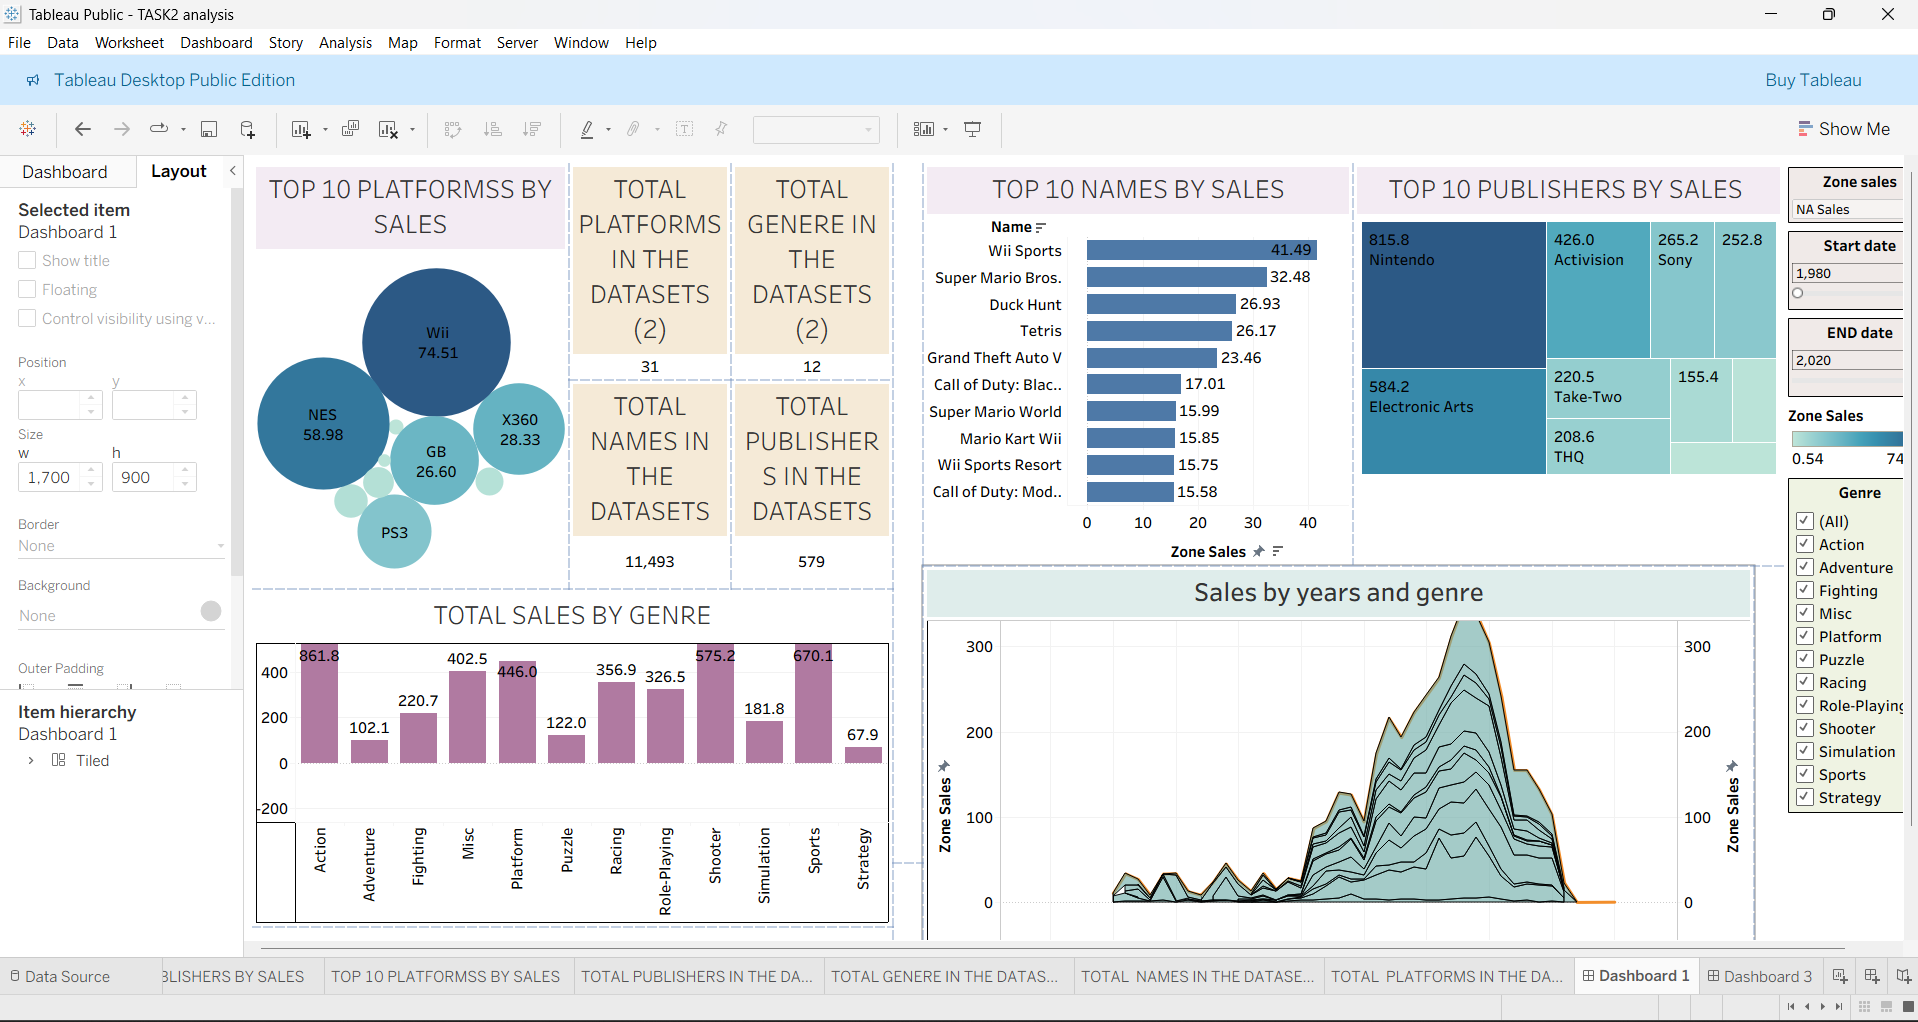

Layout of this report page (visuals, bound fields, positions):
{"tool":"tableau","page":{"name":"Dashboard 1","canvas":[1700,900],"ordinal":0},"visuals":[{"type":"worksheet","title":"TOP 10 PLATFORMSS BY SALES","mark":"Circle","box":[8,8,316.8,426]},{"type":"worksheet","title":"TOTAL  PLATFORMS IN THE DATASETS (2)","mark":"Automatic","box":[324.8,8,162,217]},{"type":"worksheet","title":"TOTAL GENERE IN THE DATASETS (2)","mark":"Automatic","box":[486.8,8,162,217]},{"type":"blank","box":[648.9,8,29.7,700.4]},{"type":"worksheet","title":"TOP 10 NAMES BY SALES","mark":"Automatic","rows":["Name"],"cols":["Calculation_1153426859474944"],"box":[678.6,8,430.7,403]},{"type":"worksheet","title":"TOP 10 PUBLISHERS BY SALES ","mark":"Automatic","box":[1109.3,8,430.7,403]},{"type":"parameter","param":"[Parameters].[Parameter 1]","box":[1540,8,152,64]},{"type":"parameter","param":"[Parameters].[Parameter 2]","box":[1540,72,152,87]},{"type":"parameter","param":"[Parameters].[Parameter 3]","box":[1540,159,152,87]},{"type":"worksheet","title":"TOTAL  NAMES IN THE DATASETS","mark":"Automatic","box":[324.8,225,162,209]},{"type":"worksheet","title":"TOTAL PUBLISHERS IN THE DATASETS","mark":"Automatic","box":[486.8,225,162,209]},{"type":"legend","title":"TOP 10 PLATFORMSS BY SALES","param":"[federated.19r0j5e02qge37166adlb1251wqm].[sum:Calculation_1153426859474944:qk]","box":[1540,246,152,73]},{"type":"filter","title":"Sales by years and genre","param":"[federated.19r0j5e02qge37166adlb1251wqm].[none:Genre:nk]","box":[1540,319,152,343]},{"type":"worksheet","title":"Sales by years and genre","mark":"Line","rows":["Calculation_1153426859474944","Calculation_1153426859474944"],"cols":["Year"],"box":[678.6,411,831.6,481]},{"type":"blank","box":[1510.2,411,29.8,481]},{"type":"worksheet","title":"TOTAL SALES BY GENRE","mark":"Automatic","rows":["Calculation_1153426859474944"],"cols":["Genre"],"box":[8,434,640.9,338]},{"type":"blank","box":[8,772,640.9,120]}]}

Visuals, with their boxes on the page's 1700x900 design canvas (x1, y1, x2, y2). These are canvas units, not pixel positions in the 1918x1022 screenshot, which may show the page scaled, cropped or inside an application window:
"TOP 10 PLATFORMSS BY SALES" worksheet (Circle marks): x1=8, y1=8, x2=325, y2=434
"TOTAL  PLATFORMS IN THE DATASETS (2)" worksheet: x1=325, y1=8, x2=487, y2=225
"TOTAL GENERE IN THE DATASETS (2)" worksheet: x1=487, y1=8, x2=649, y2=225
blank: x1=649, y1=8, x2=679, y2=708
"TOP 10 NAMES BY SALES" worksheet: x1=679, y1=8, x2=1109, y2=411
"TOP 10 PUBLISHERS BY SALES " worksheet: x1=1109, y1=8, x2=1540, y2=411
parameter: x1=1540, y1=8, x2=1692, y2=72
parameter: x1=1540, y1=72, x2=1692, y2=159
parameter: x1=1540, y1=159, x2=1692, y2=246
"TOTAL  NAMES IN THE DATASETS" worksheet: x1=325, y1=225, x2=487, y2=434
"TOTAL PUBLISHERS IN THE DATASETS" worksheet: x1=487, y1=225, x2=649, y2=434
"TOP 10 PLATFORMSS BY SALES" legend: x1=1540, y1=246, x2=1692, y2=319
"Sales by years and genre" filter: x1=1540, y1=319, x2=1692, y2=662
"Sales by years and genre" worksheet (Line marks): x1=679, y1=411, x2=1510, y2=892
blank: x1=1510, y1=411, x2=1540, y2=892
"TOTAL SALES BY GENRE" worksheet: x1=8, y1=434, x2=649, y2=772
blank: x1=8, y1=772, x2=649, y2=892
